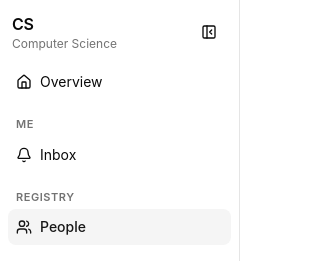
Sidebar › groups items, marks the current section and collapses to icons with accessible names
This screenshot has width=320, height=278.
Expected: the navigation bar named "Main" shows "Registry", [16, 190, 75, 204]
Click the button named "Collapse sidebar". click: (209, 32)
box: [191, 14, 227, 50]
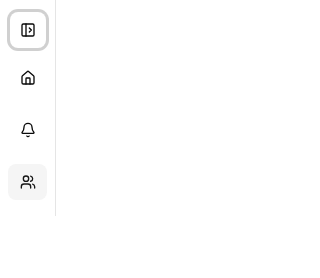
Expected: the 3rd link named "People" is shown, [8, 164, 47, 200]
Result: the button named "Expand sidebar" is collapsed at [10, 12, 46, 48]
Result: the navigation bar named "Main" no longer shows "Registry" at [0, 60, 55, 216]
